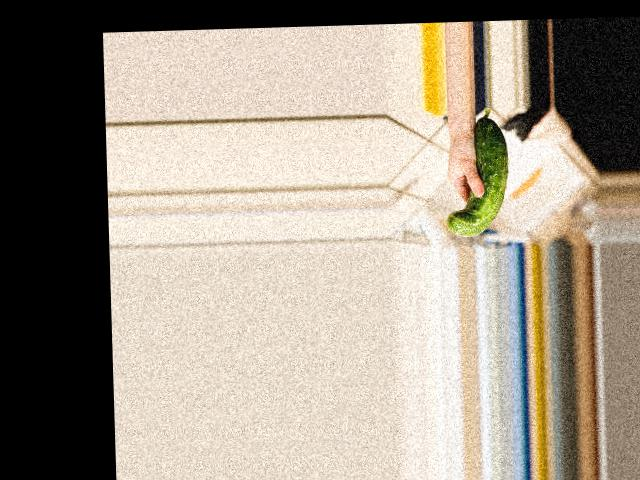cucumber: (443, 108, 511, 237)
